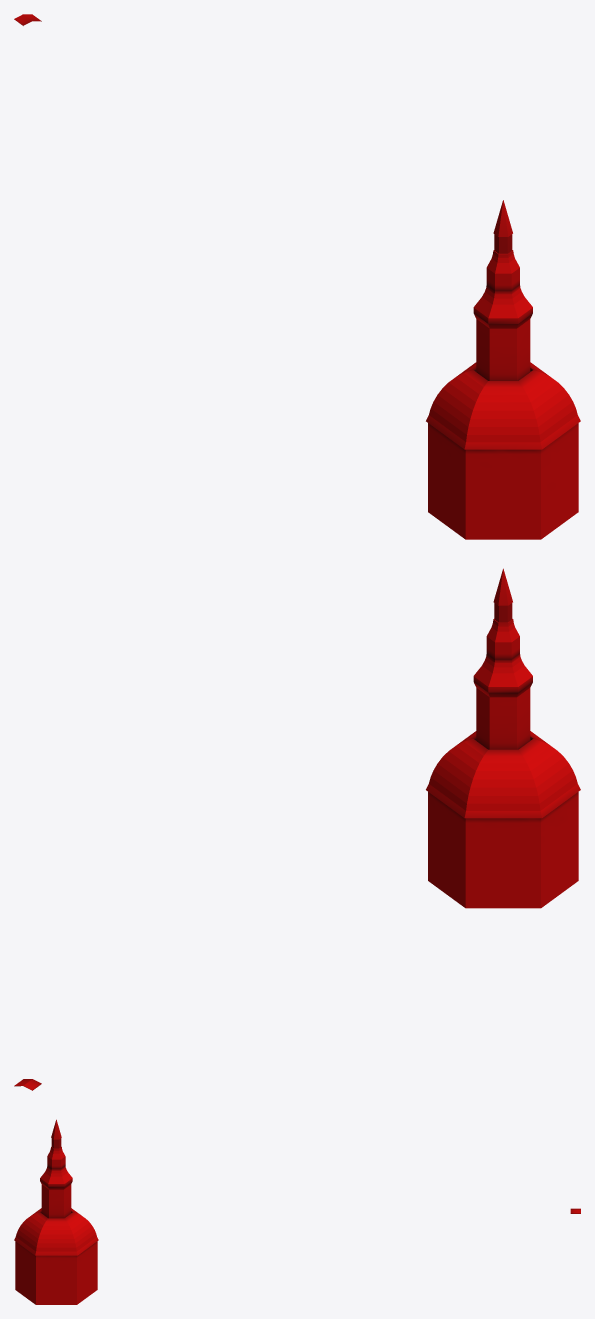
Rendered from RoofAccessRoof_export.obj.
The picture shows the model from 3 angles, top to bottom: view 1: azimuth 30°, elevation 25°; view 2: azimuth 150°, elevation 25°; view 3: azimuth 270°, elevation 25°; orthographic projection. The views are drawn at different scales.
Visible parts, largest first — view 1: MainBuildingBase, MainBuildingBigRoof, MainBuildingUpperRoof, MainBuildingLowerTower; view 2: MainBuildingBase, MainBuildingBigRoof, MainBuildingUpperRoof, MainBuildingLowerTower; view 3: MainBuildingBase, MainBuildingBigRoof, MainBuildingUpperRoof, MainBuildingLowerTower.
Boxes of the visible parts, x1,y1,x2,y2 form: MainBuildingBase: [428, 423, 578, 539]; MainBuildingBigRoof: [426, 362, 580, 449]; MainBuildingUpperRoof: [473, 200, 532, 328]; MainBuildingLowerTower: [475, 319, 531, 380]; MainBuildingBase: [428, 792, 578, 908]; MainBuildingBigRoof: [426, 731, 580, 818]; MainBuildingUpperRoof: [473, 568, 532, 697]; MainBuildingLowerTower: [475, 688, 530, 749]; MainBuildingBase: [15, 1241, 97, 1304]; MainBuildingBigRoof: [14, 1208, 98, 1255]; MainBuildingUpperRoof: [40, 1119, 72, 1189]; MainBuildingLowerTower: [41, 1184, 71, 1218].
Size of the model in its own units: 21.43 by 55 by 165.
